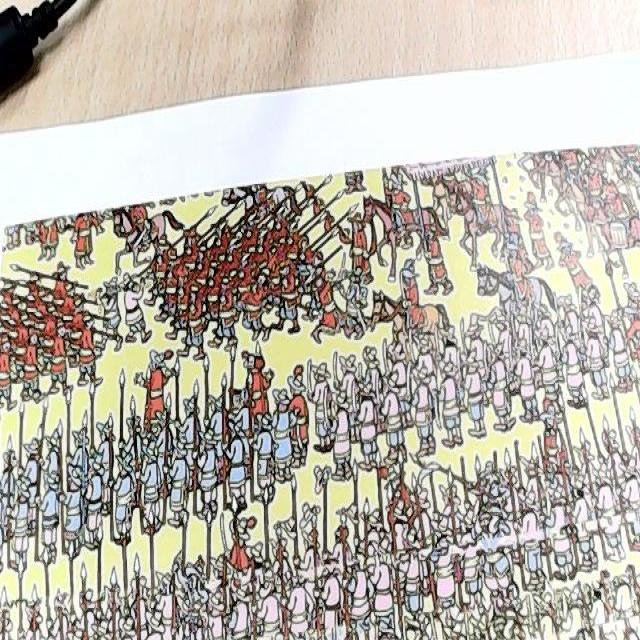waldo: (228, 386, 246, 411)
